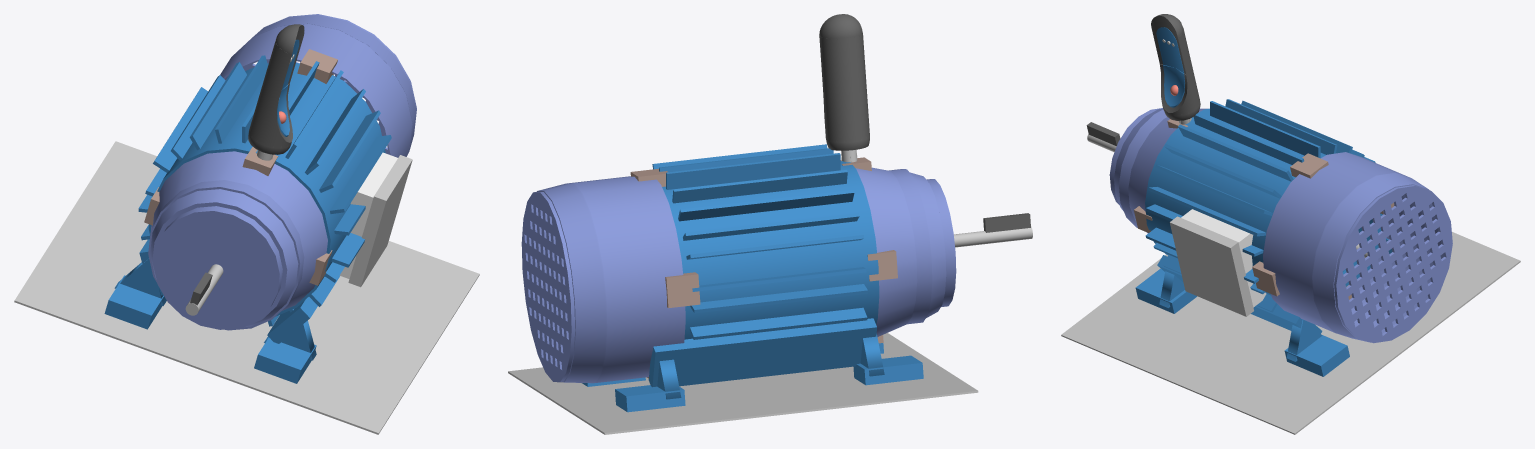
Rendered from MotorSensorV11.glb.
3 renders of one model, left to right at view 1: azimuth 30°, elevation 25°; view 2: azimuth 150°, elevation 25°; view 3: azimuth 270°, elevation 25°, orthographic. The views are drawn at different scales.
Parts seen in each view (by area): view 1: Objeto.001, Objeto.072, Objeto.054, Objeto.042, Objeto.069, Objeto.071, Objeto.051, Objeto.009, Objeto.070, Objeto.043, Objeto.038, Objeto.048 (+20 smaller); view 2: Objeto.054, Objeto.001, Objeto.042, Objeto.035, Objeto.044, Objeto.043, Objeto.069, Objeto.009, Objeto.066, Objeto.065, Objeto.070, Objeto.061 (+18 smaller); view 3: Objeto.001, Objeto.044, Objeto.042, Objeto.054, Objeto.051, Objeto.043, Objeto.069, Objeto.066, Objeto.049, Objeto.009, Objeto.052, Objeto.070 (+21 smaller).
Boxes of the visible parts, x1,y1,x2,y2 form: Objeto.001: (14, 141, 479, 434); Objeto.072: (153, 206, 282, 329); Objeto.054: (148, 63, 385, 316); Objeto.042: (220, 23, 412, 157); Objeto.069: (151, 151, 327, 310); Objeto.071: (150, 189, 298, 327); Objeto.051: (348, 155, 412, 287); Objeto.009: (249, 37, 303, 148); Objeto.070: (148, 180, 304, 330); Objeto.043: (224, 15, 416, 150); Objeto.038: (104, 275, 164, 329); Objeto.048: (254, 337, 316, 383); Objeto.054: (662, 161, 879, 339); Objeto.001: (508, 333, 978, 434); Objeto.042: (567, 176, 685, 382); Objeto.035: (648, 318, 876, 387); Objeto.044: (521, 192, 575, 381); Objeto.043: (536, 183, 606, 383); Objeto.069: (856, 167, 917, 336); Objeto.009: (819, 33, 869, 142); Objeto.066: (666, 153, 840, 189); Objeto.065: (672, 170, 847, 203); Objeto.070: (889, 169, 932, 324); Objeto.061: (689, 307, 867, 339); Objeto.001: (1061, 232, 1520, 434); Objeto.044: (1334, 185, 1452, 343); Objeto.042: (1263, 152, 1429, 332); Objeto.054: (1145, 108, 1382, 295); Objeto.051: (1169, 216, 1253, 316); Objeto.043: (1312, 173, 1444, 342); Objeto.069: (1128, 108, 1207, 233); Objeto.066: (1210, 101, 1320, 158); Objeto.049: (1284, 335, 1349, 376); Objeto.009: (1151, 27, 1199, 115); Objeto.052: (1181, 209, 1266, 307); Objeto.070: (1118, 109, 1166, 227).
Size of the model in its own units: 1391 by 1041 by 1391.
